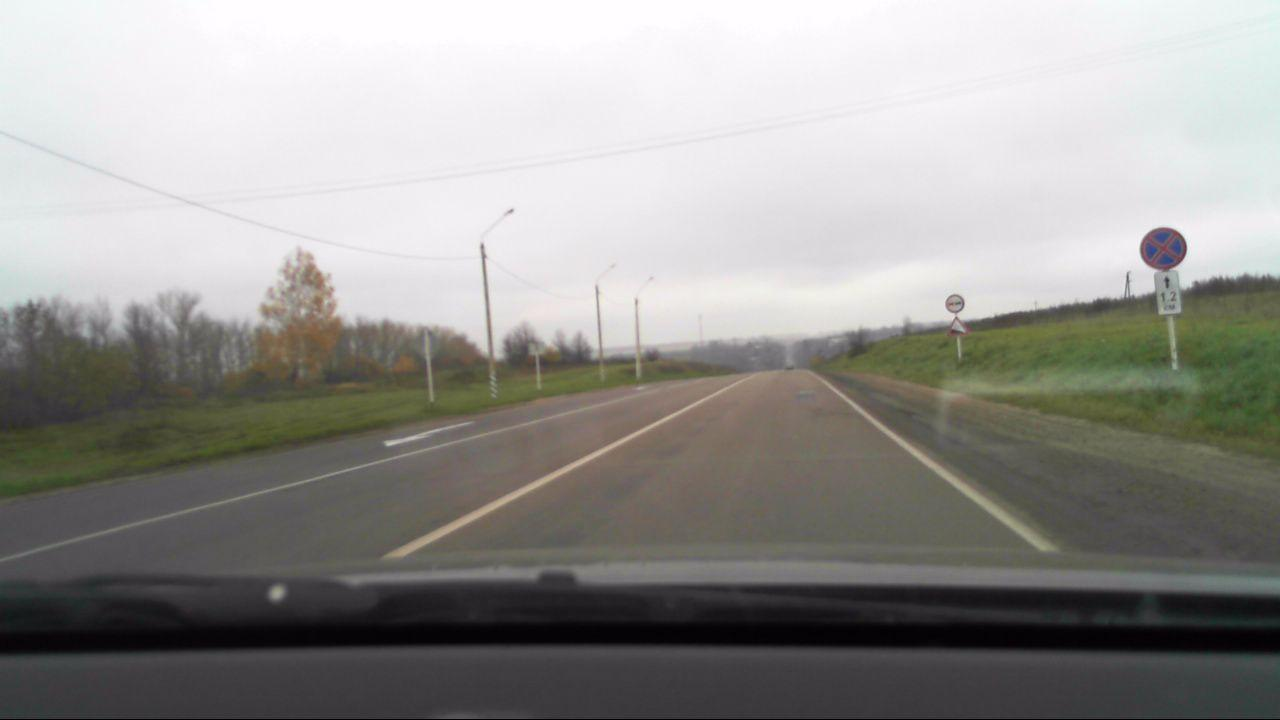1_13: (947, 317, 967, 337)
3_20: (945, 293, 964, 314)
3_27: (1141, 227, 1189, 270)
8_2_2: (1154, 271, 1183, 316)
